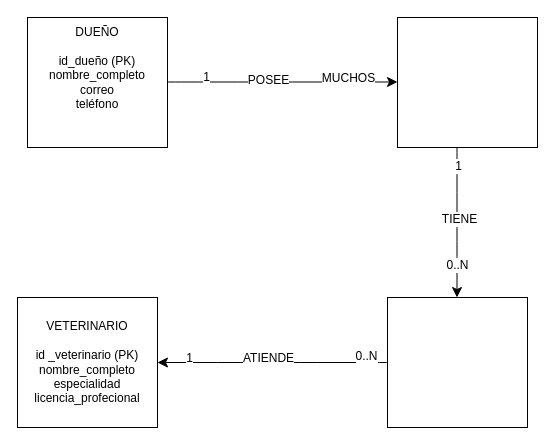
The diagram is 555 pixels wide and 445 high, and some of its shapes have lost their labels. Here are the shapes that lost their labels. From the top down, the centre of each, then its label:
At point (467, 82): "MASCOTA id_mascota (PK) nombre especie fecha_nacimiento".
At point (457, 362): "CITA id _cita (PK) fecha_hora costo dianostico".
